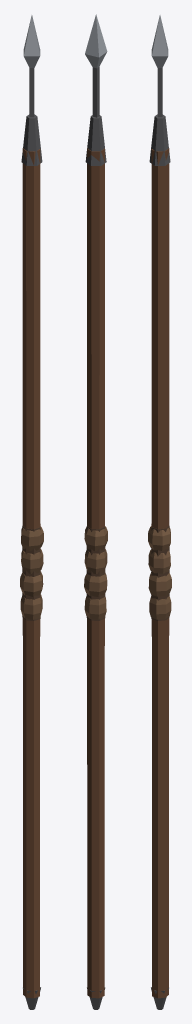
File: javelin.glb
3 renders of one model, left to right at view 1: azimuth 90°, elevation 25°; view 2: azimuth 150°, elevation 25°; view 3: azimuth 270°, elevation 25°, orthographic.
Parts seen in each view (by area): view 1: javelin; view 2: javelin; view 3: javelin.
Boxes of the visible parts, x1,y1,x2,y2 form: javelin: (20,15,43,1009); javelin: (84,14,107,1009); javelin: (148,15,171,1009).
Bounding box in the file's own units: 0.0307 × 1.41 × 0.031.
